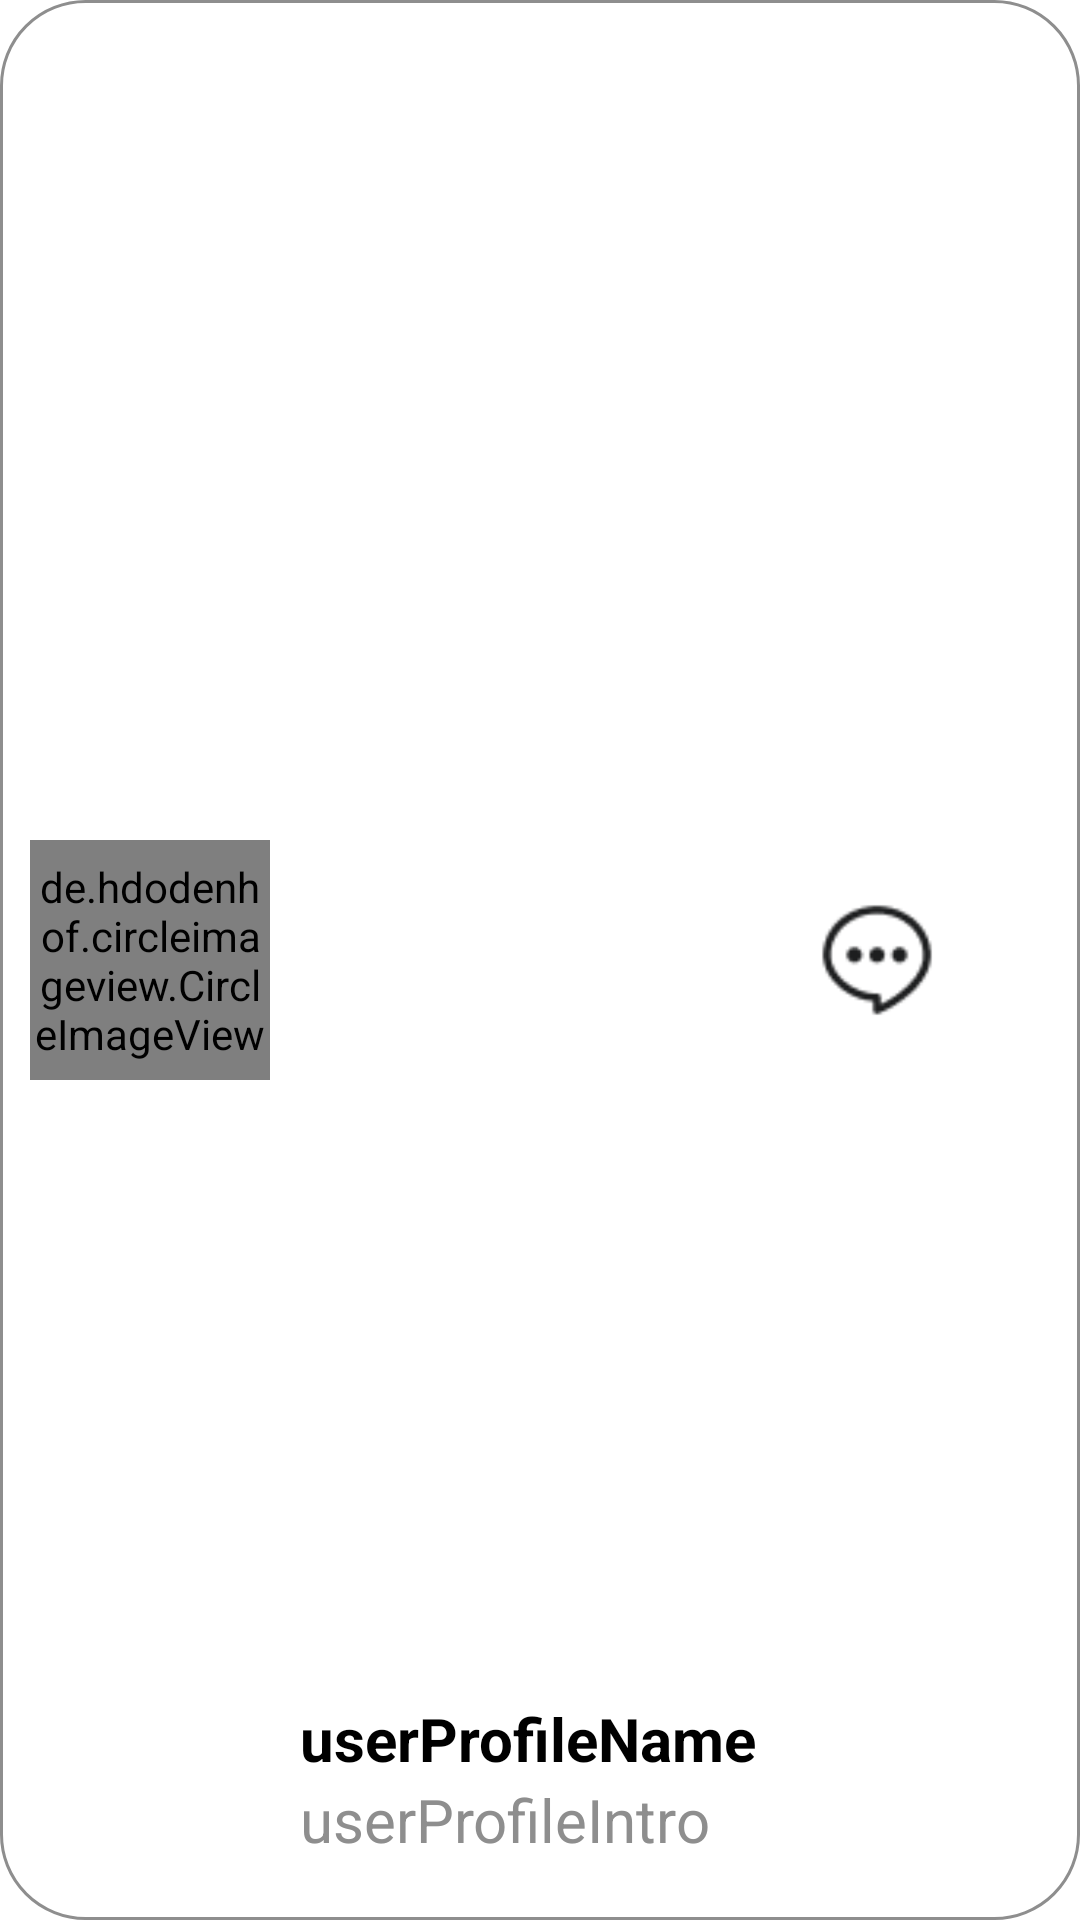

Named icons in this screenshot (1080x1920) and their centers, [x,y]:
user interf mess: [877,960]
